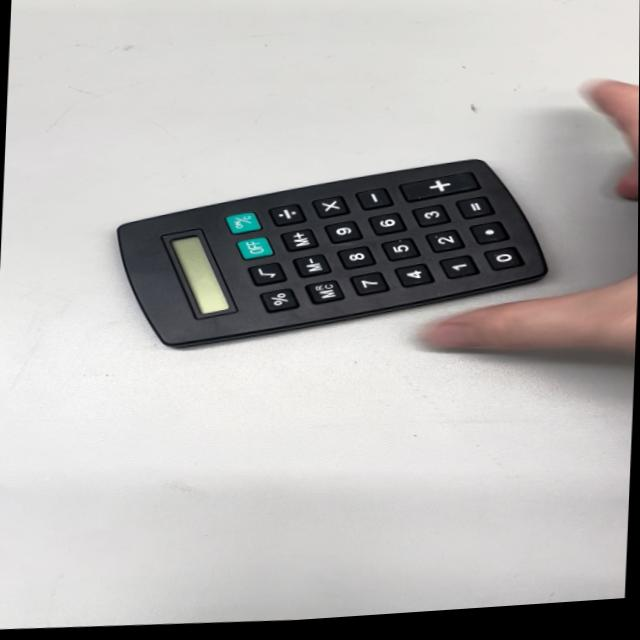calculator: (95, 131, 554, 369)
